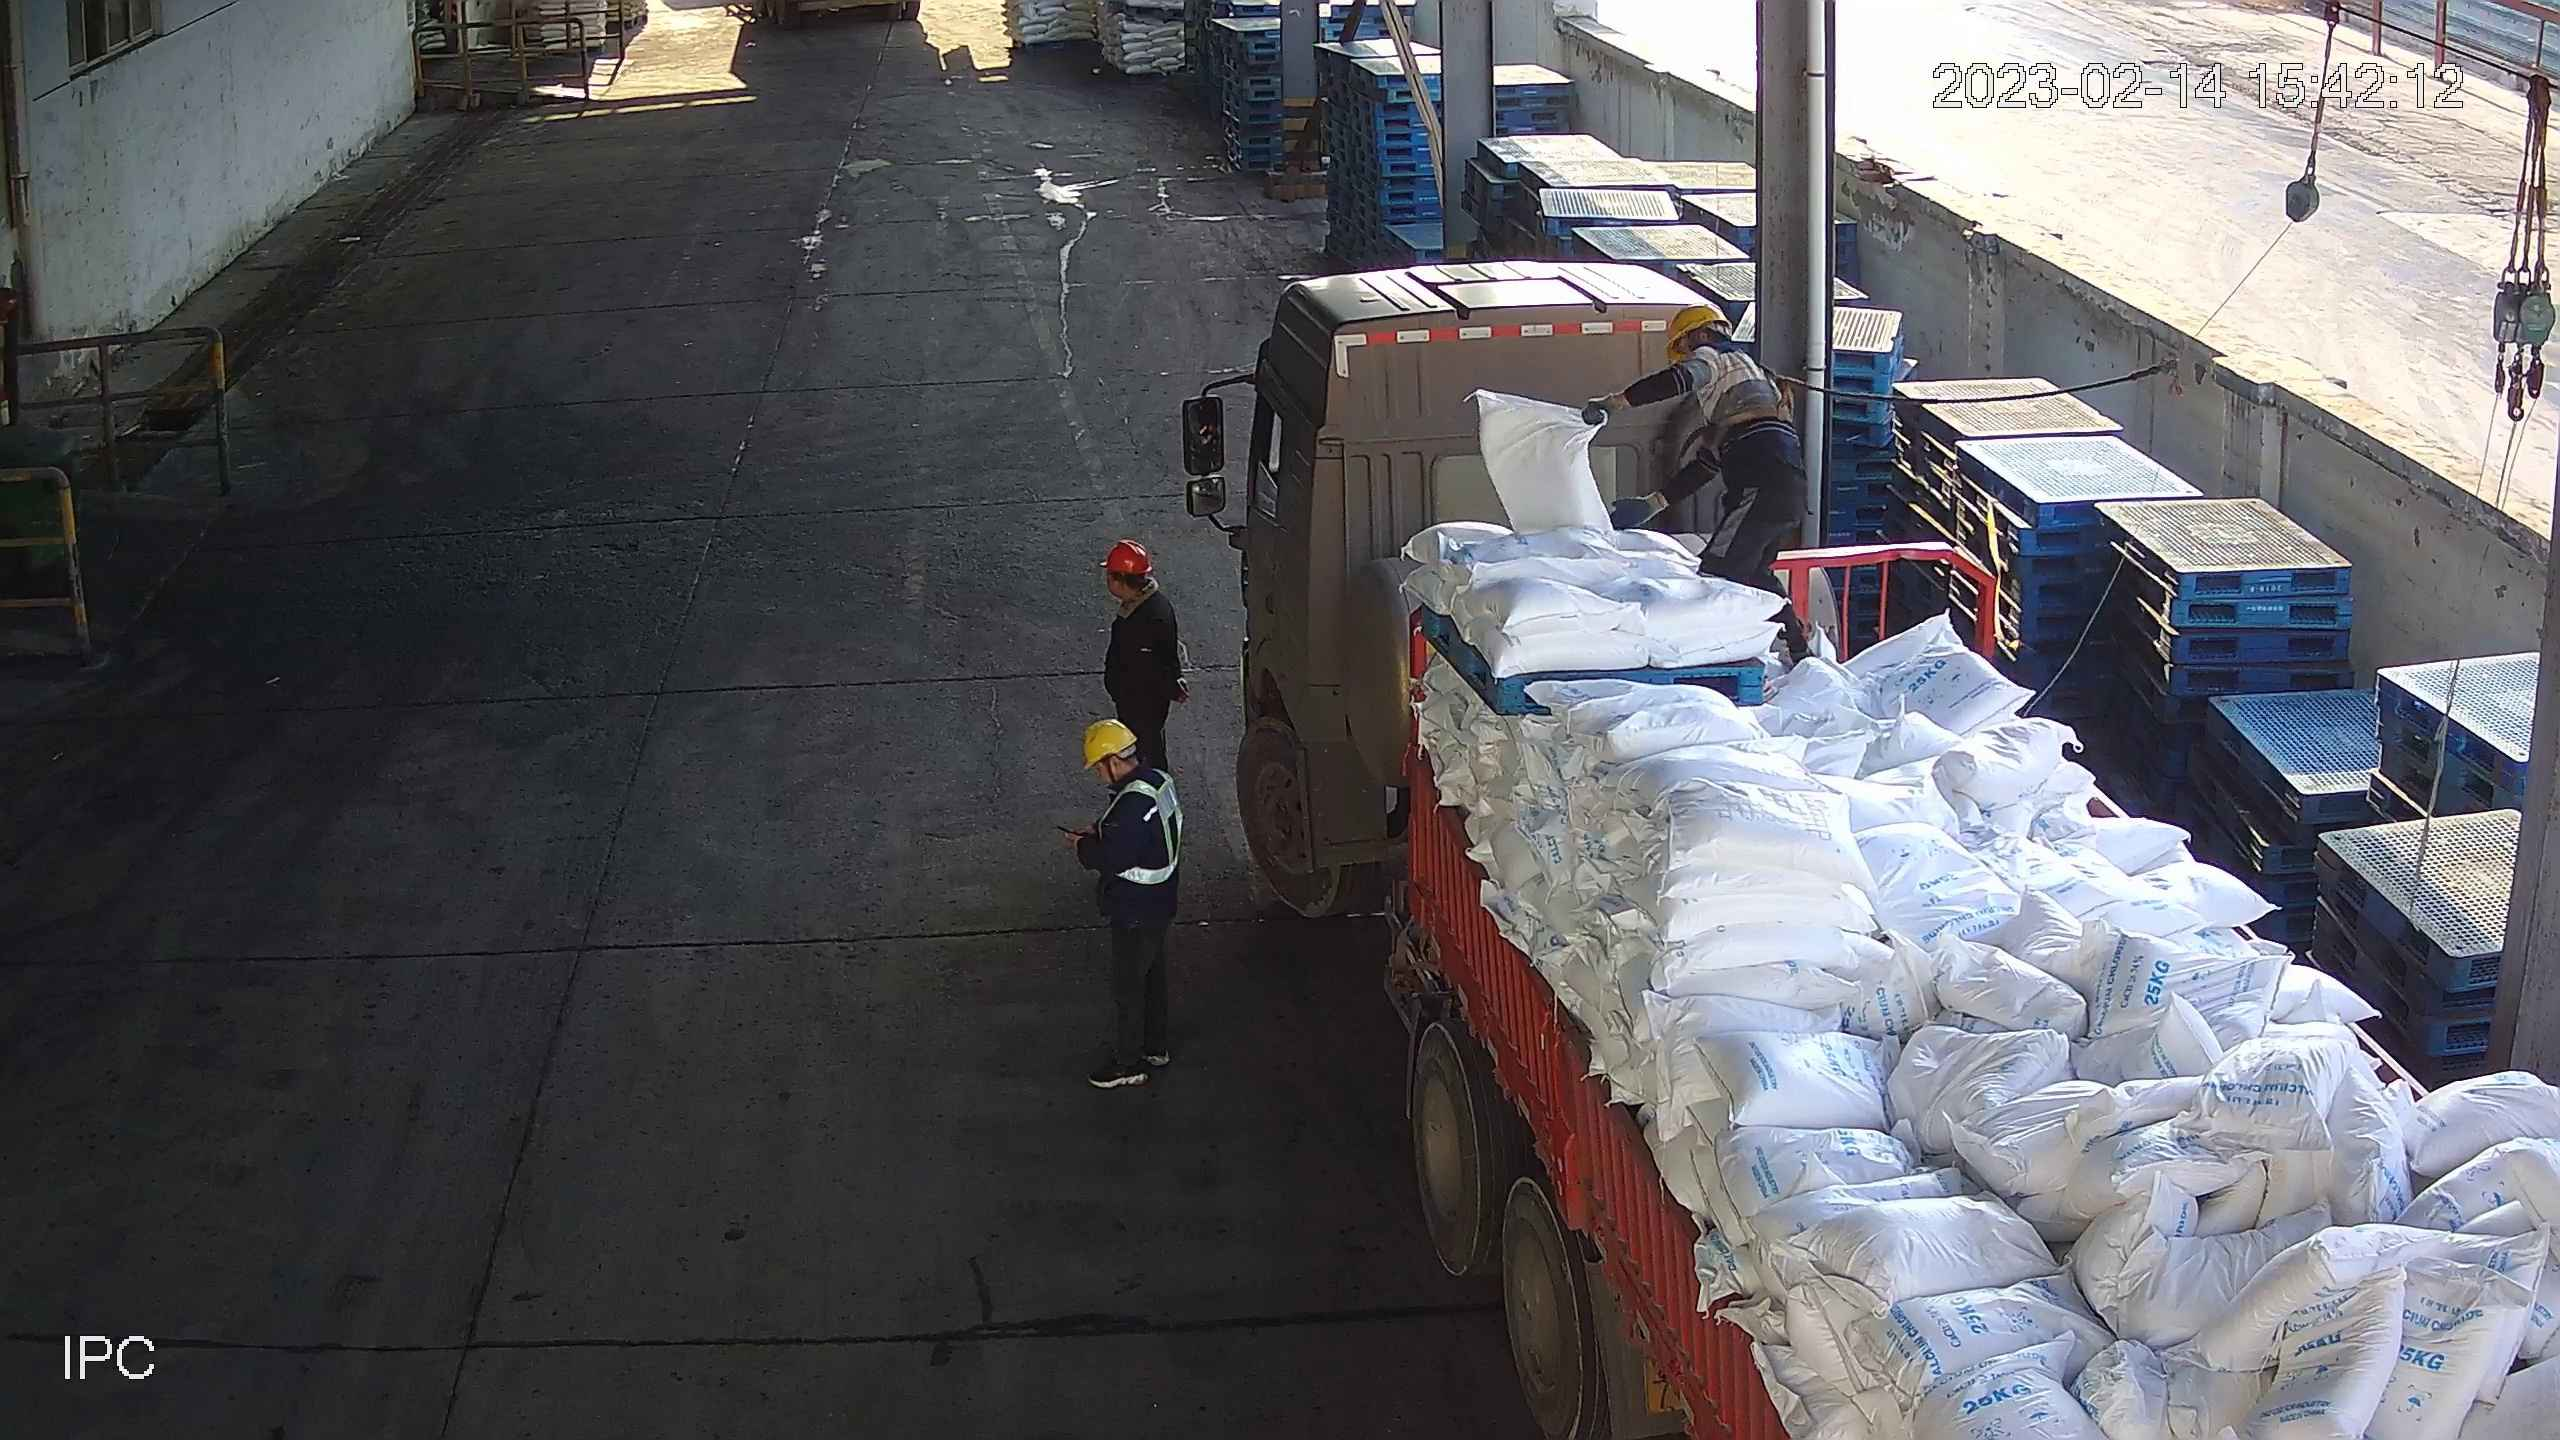belt: (1696, 357, 1797, 436)
head: (1066, 725, 1190, 847), (1646, 307, 1792, 410), (1094, 536, 1185, 645)
helmet: (1068, 712, 1142, 768), (1659, 303, 1731, 345), (1092, 538, 1155, 579)
people: (1620, 307, 1825, 607), (1059, 718, 1198, 1090), (1090, 528, 1201, 781)
truck: (1182, 253, 2548, 1418)
